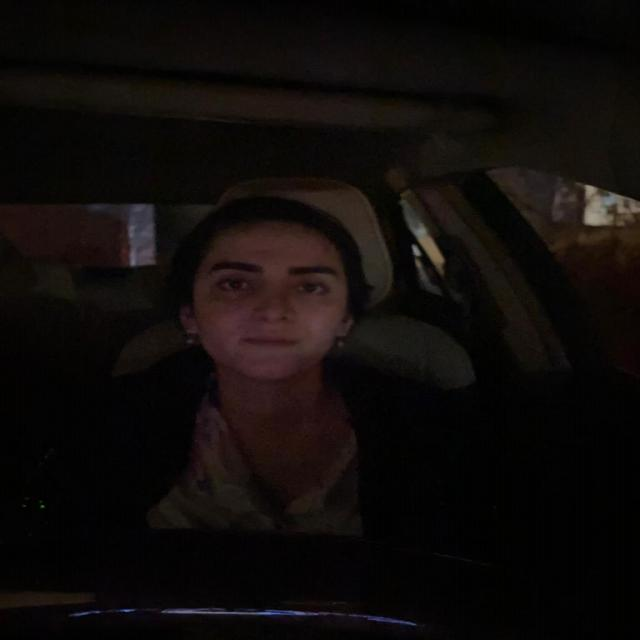person: (158, 184, 384, 396)
